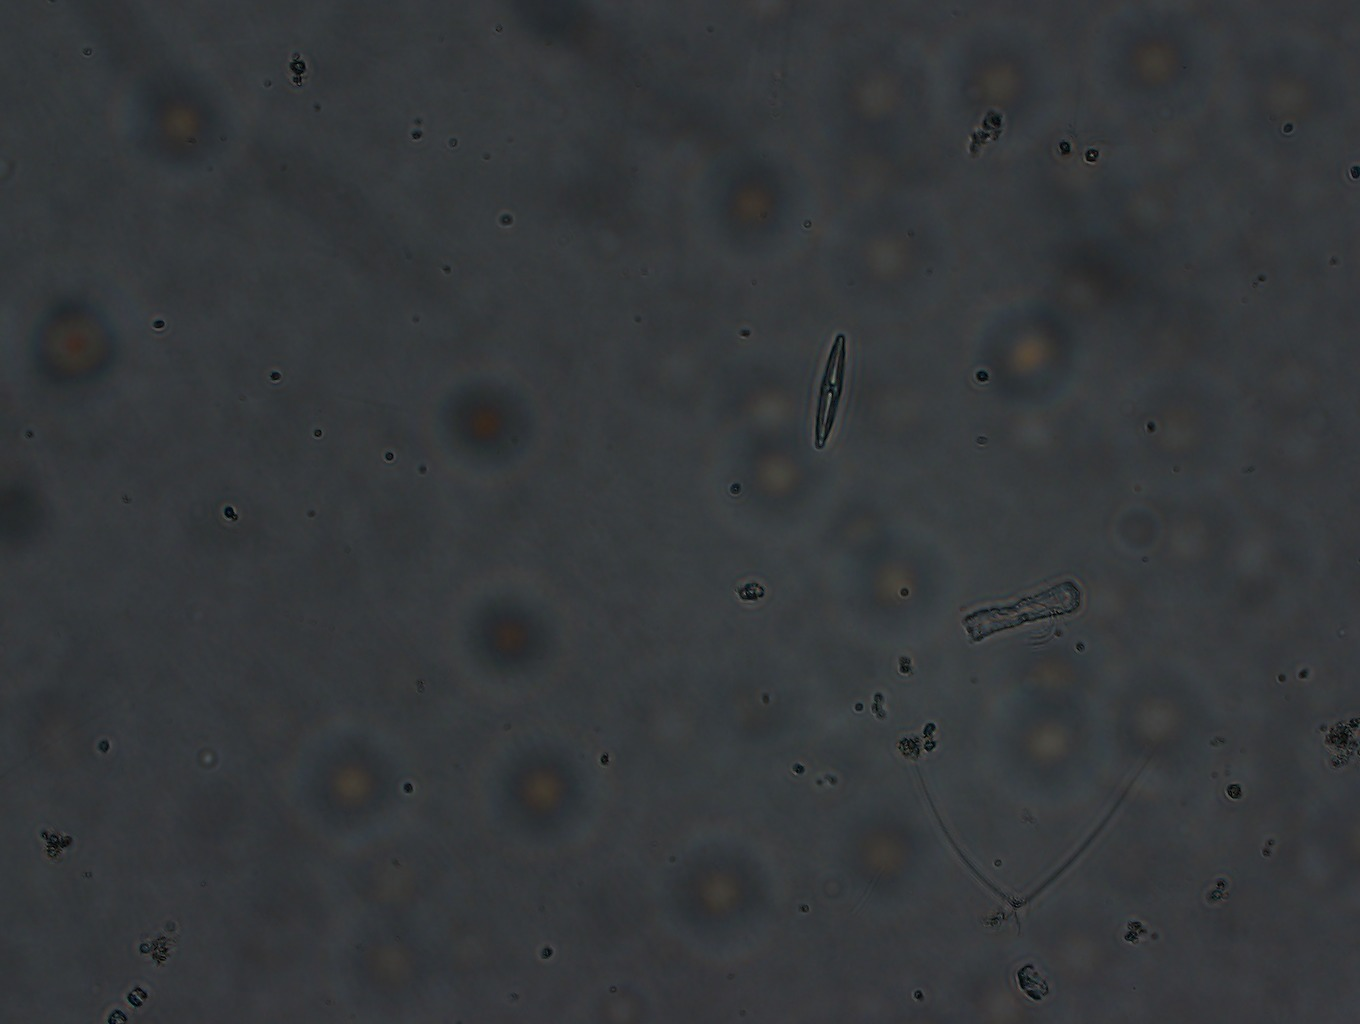chaetoceros: (897, 733, 1157, 933)
navicula: (802, 318, 851, 446)
